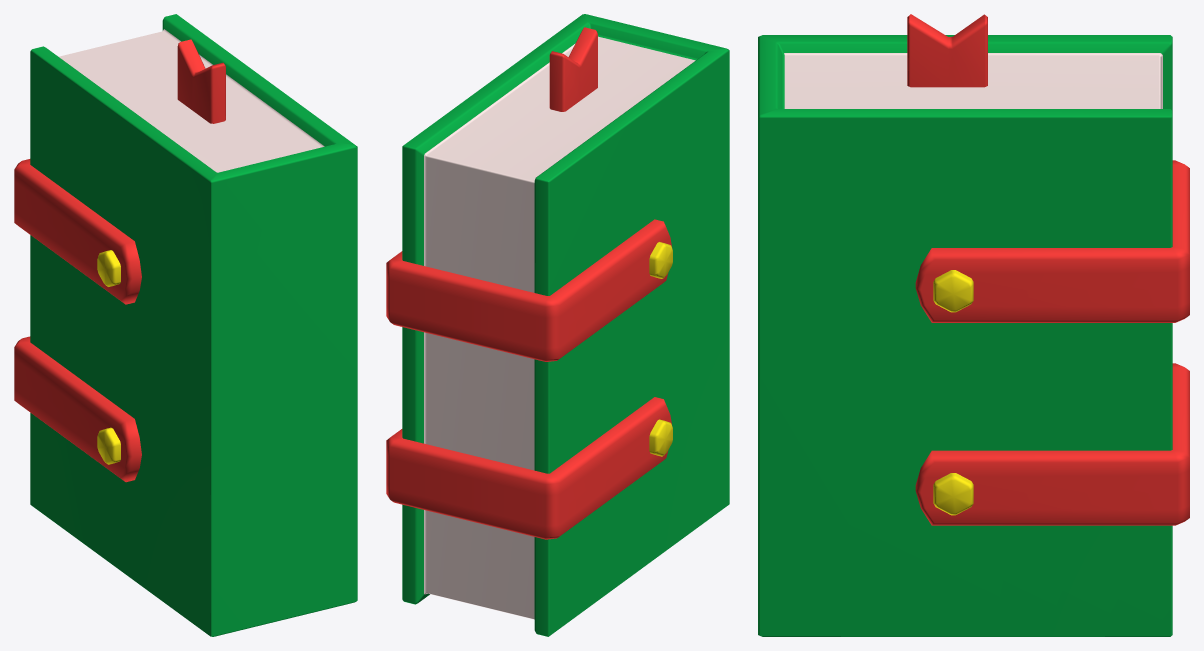
The model's file is Public_2_Book_7.glb.
3 renders of one model, left to right at view 1: azimuth 30°, elevation 25°; view 2: azimuth 150°, elevation 25°; view 3: azimuth 270°, elevation 25°, orthographic. The views are drawn at different scales.
Visible parts, largest first — view 1: Public_2_Book_7; view 2: Public_2_Book_7; view 3: Public_2_Book_7.
Boxes of the visible parts, bbox=[...] form: Public_2_Book_7: bbox=[14, 14, 357, 636]; Public_2_Book_7: bbox=[386, 14, 729, 636]; Public_2_Book_7: bbox=[758, 14, 1189, 636].
Size of the model in its own units: 0.7177 by 1.84 by 1.24.
Materials: 1 (1 with a texture image).
